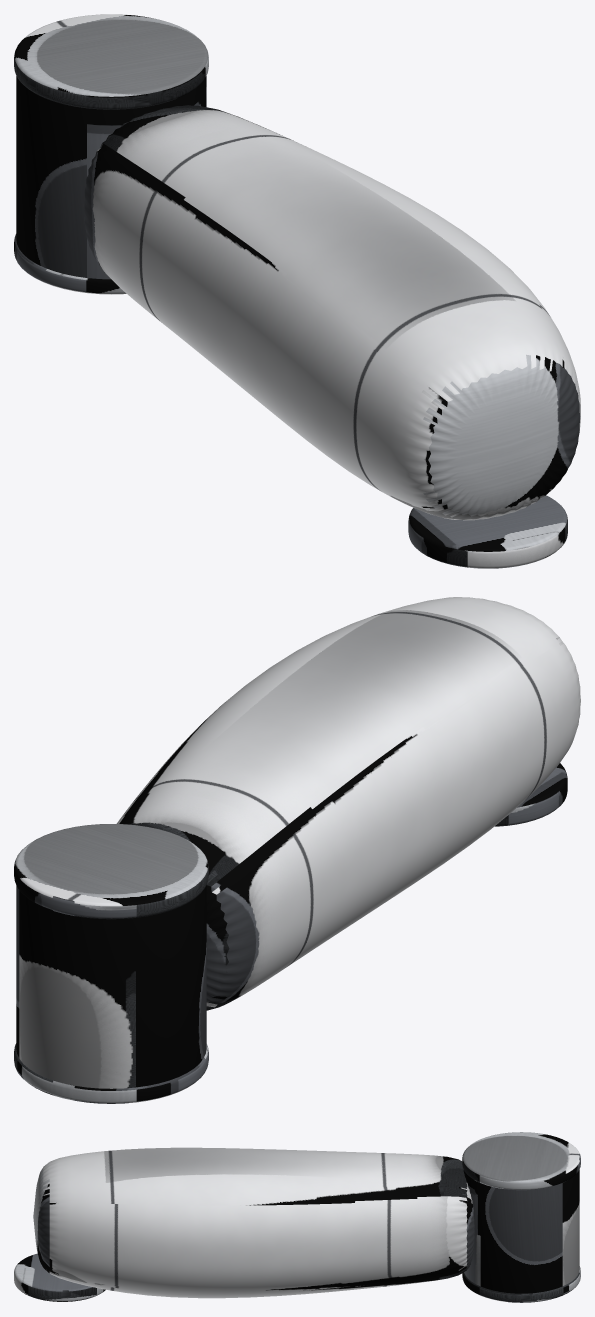
The model's file is right_thigh.obj.
3 renders of one model, top to bottom at view 1: azimuth 30°, elevation 25°; view 2: azimuth 150°, elevation 25°; view 3: azimuth 270°, elevation 25°, orthographic. The views are drawn at different scales.
Parts seen in each view (by area): view 1: right_thigh; view 2: right_thigh; view 3: right_thigh.
Boxes of the visible parts, left/top/right/bottom form: right_thigh: left=14, top=14, right=580, bottom=568; right_thigh: left=14, top=597, right=580, bottom=1103; right_thigh: left=14, top=1132, right=580, bottom=1302.
Bounding box in the file's own units: 0.1208 × 0.1046 × 0.42.
1 material, 1 textured.
